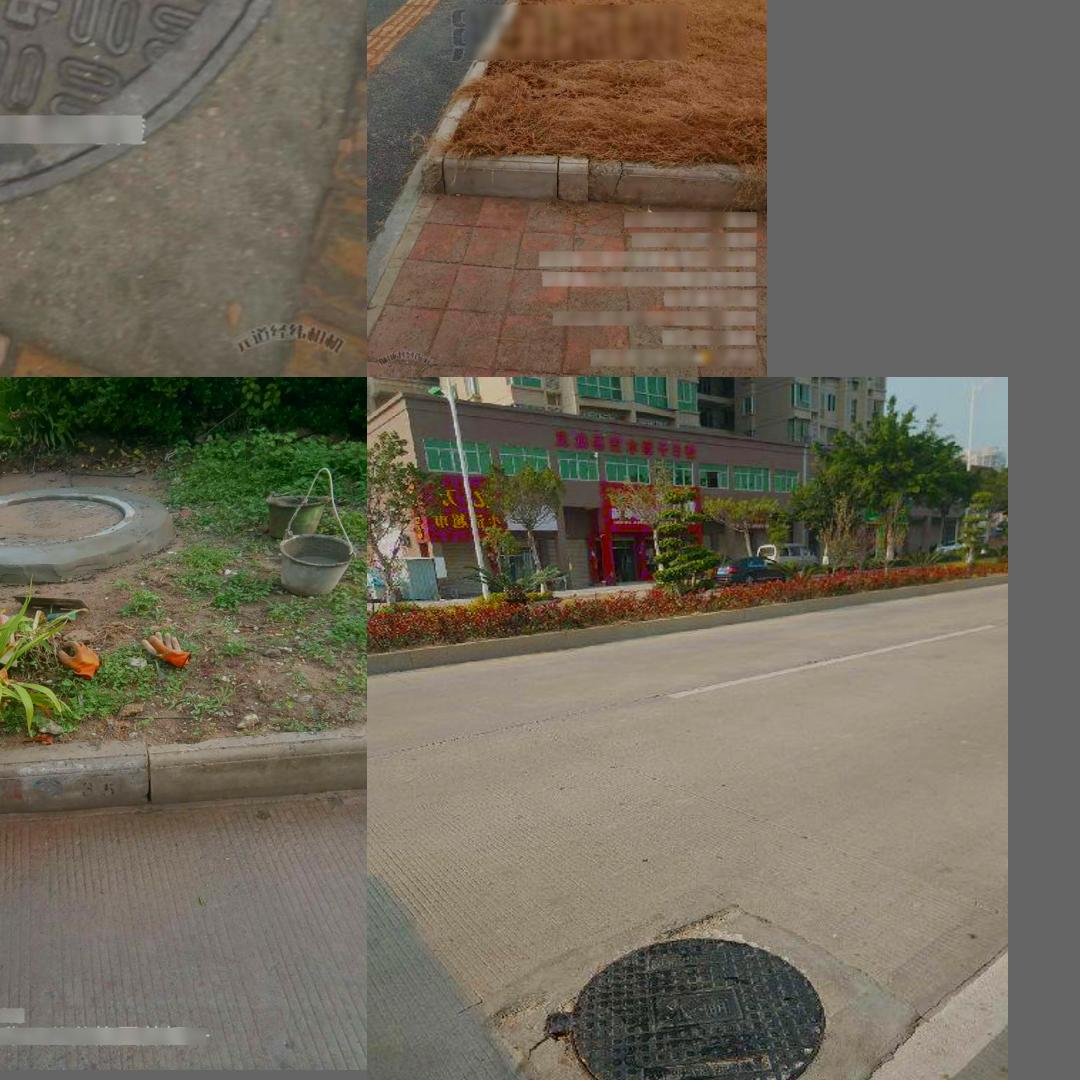good: (482, 901, 923, 1080), (0, 0, 323, 214), (0, 492, 136, 543)
